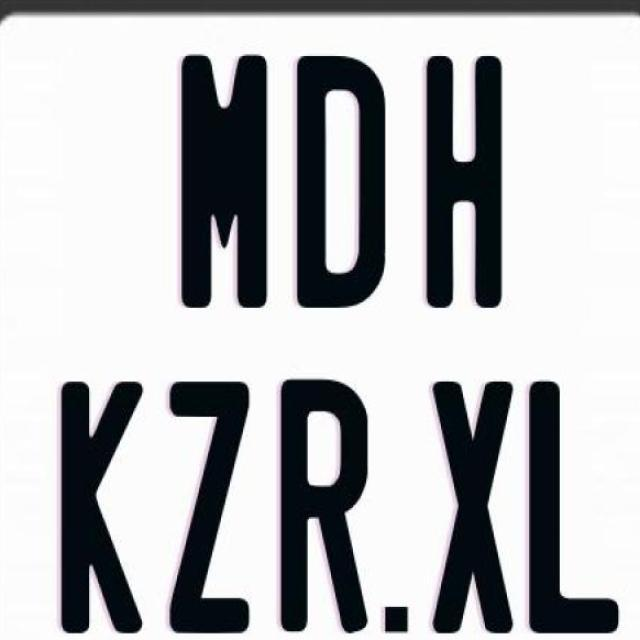license-plate: (0, 23, 640, 638)
